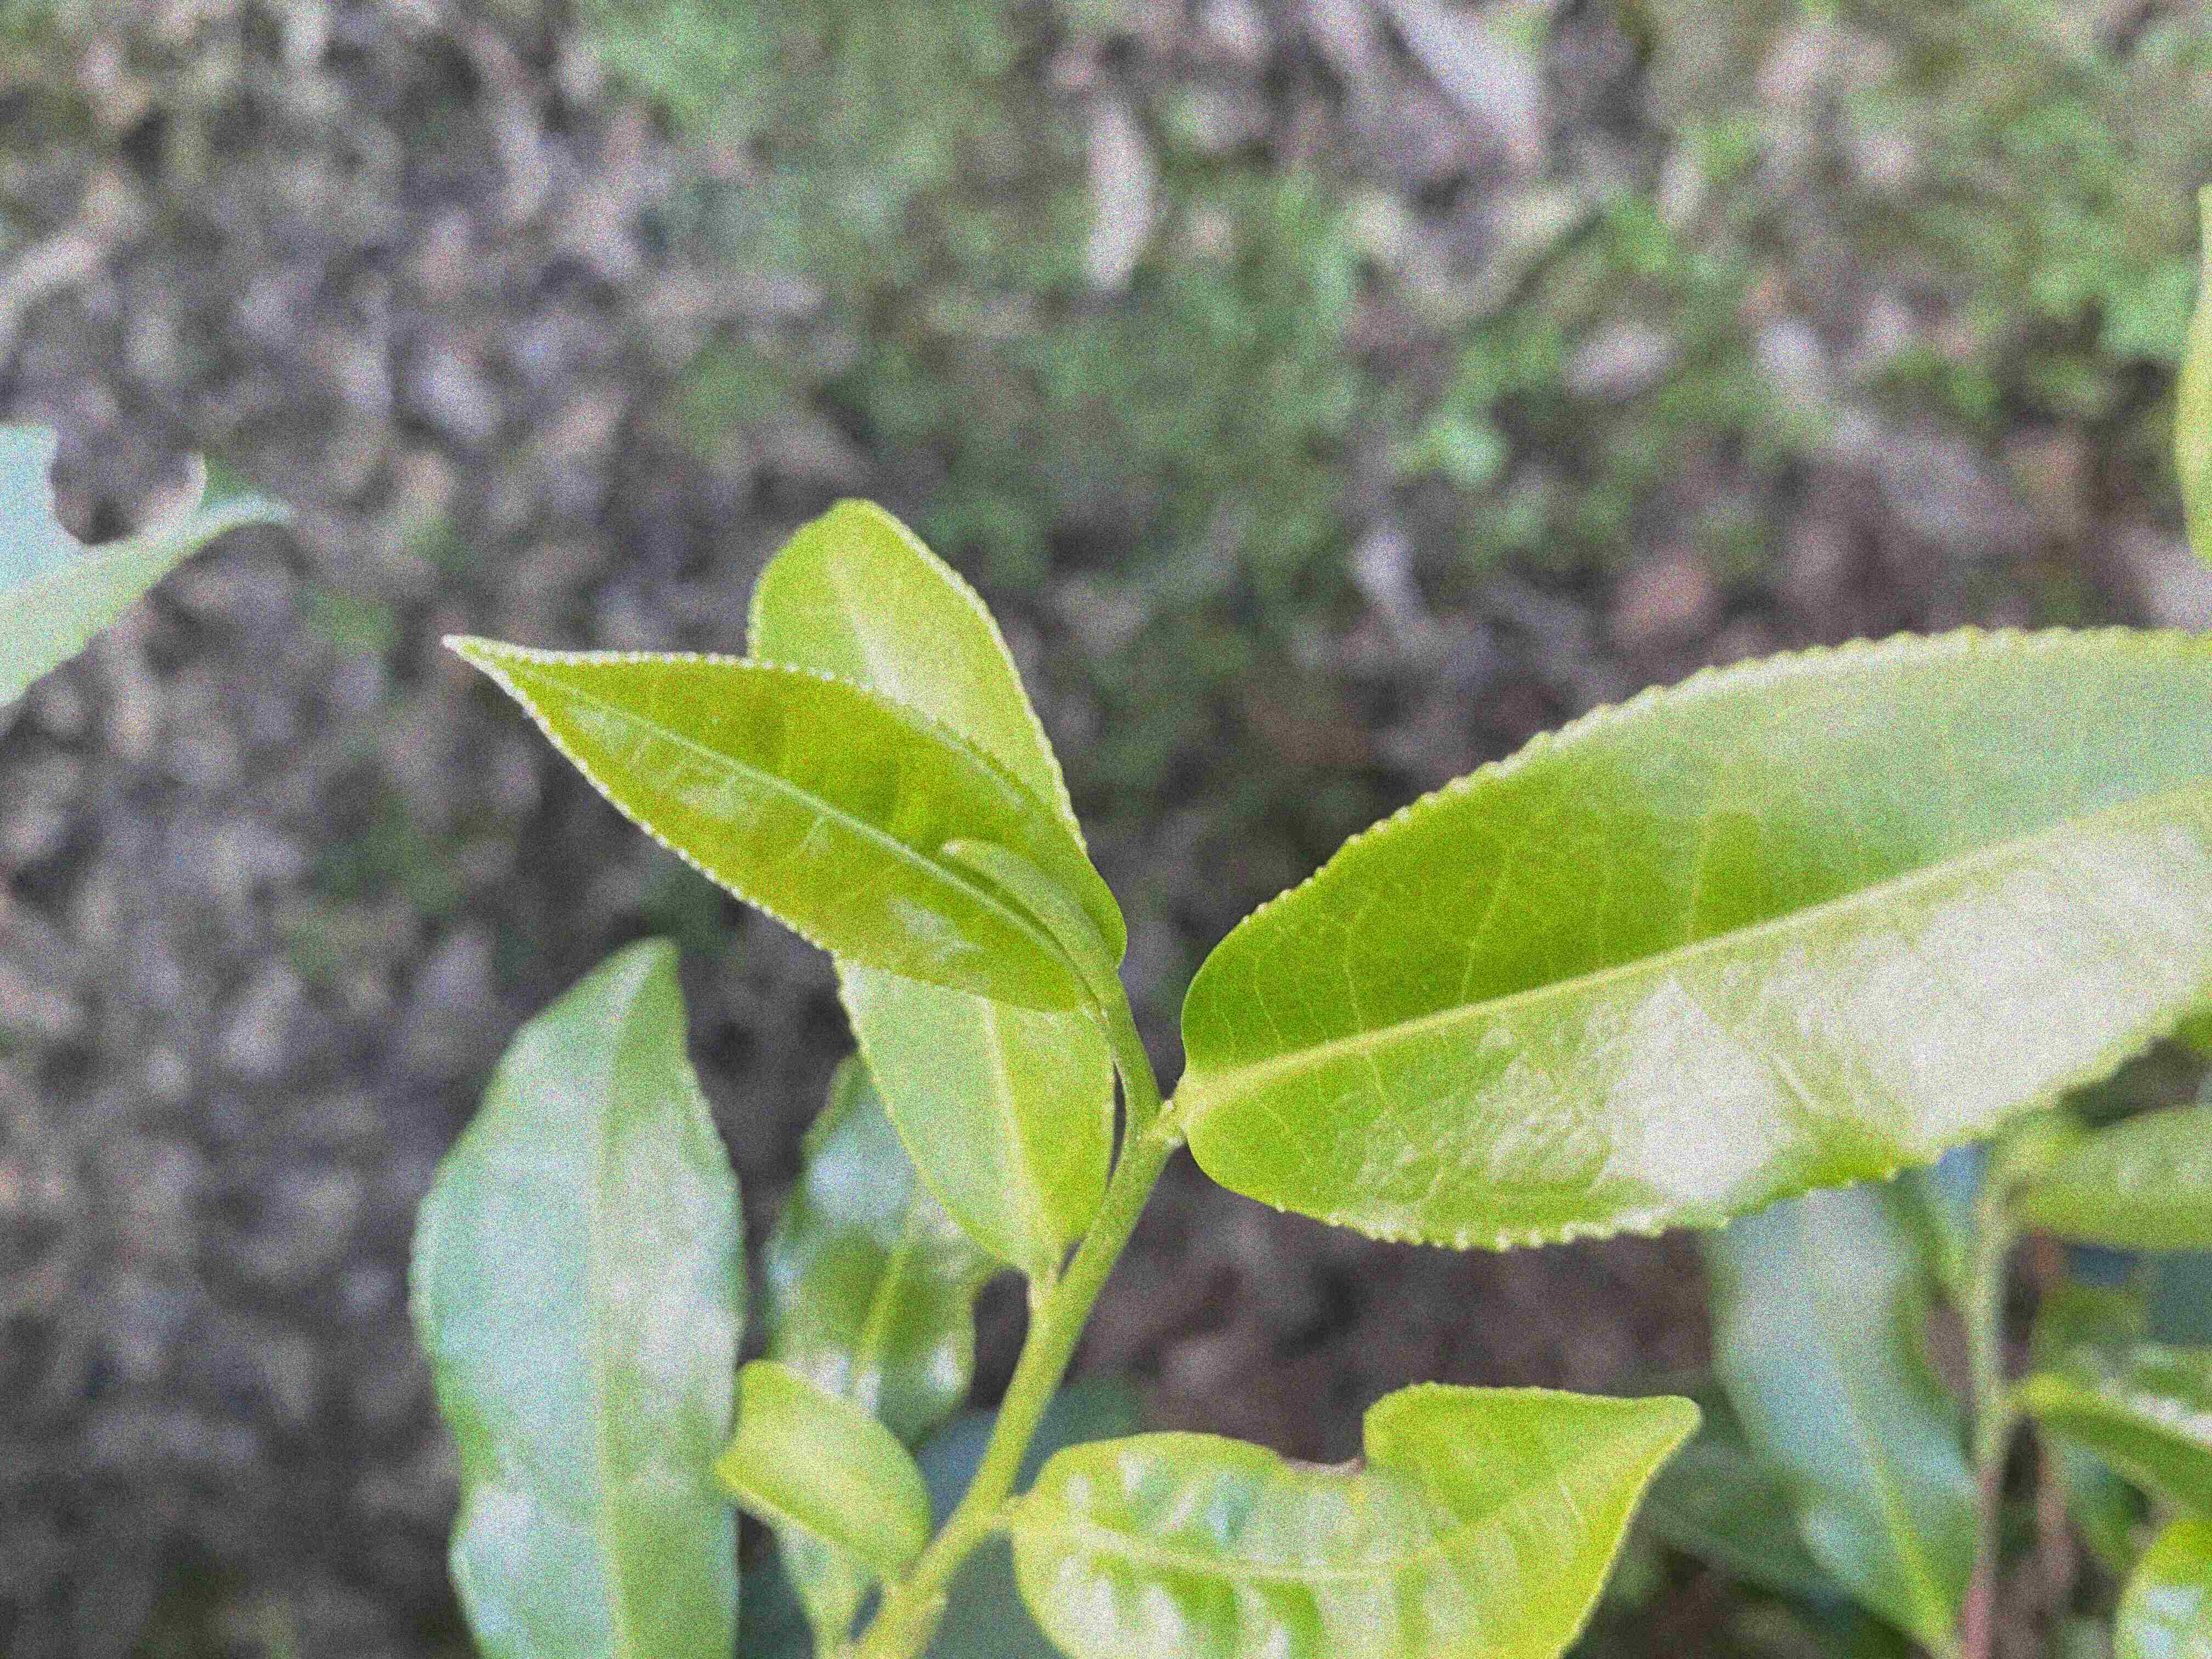chihuo_high: (3, 416, 296, 708)
healthy: (1176, 624, 2212, 1253), (744, 495, 1127, 1265), (435, 641, 1130, 1016)
tanju_low: (1010, 1385, 1702, 1657)
